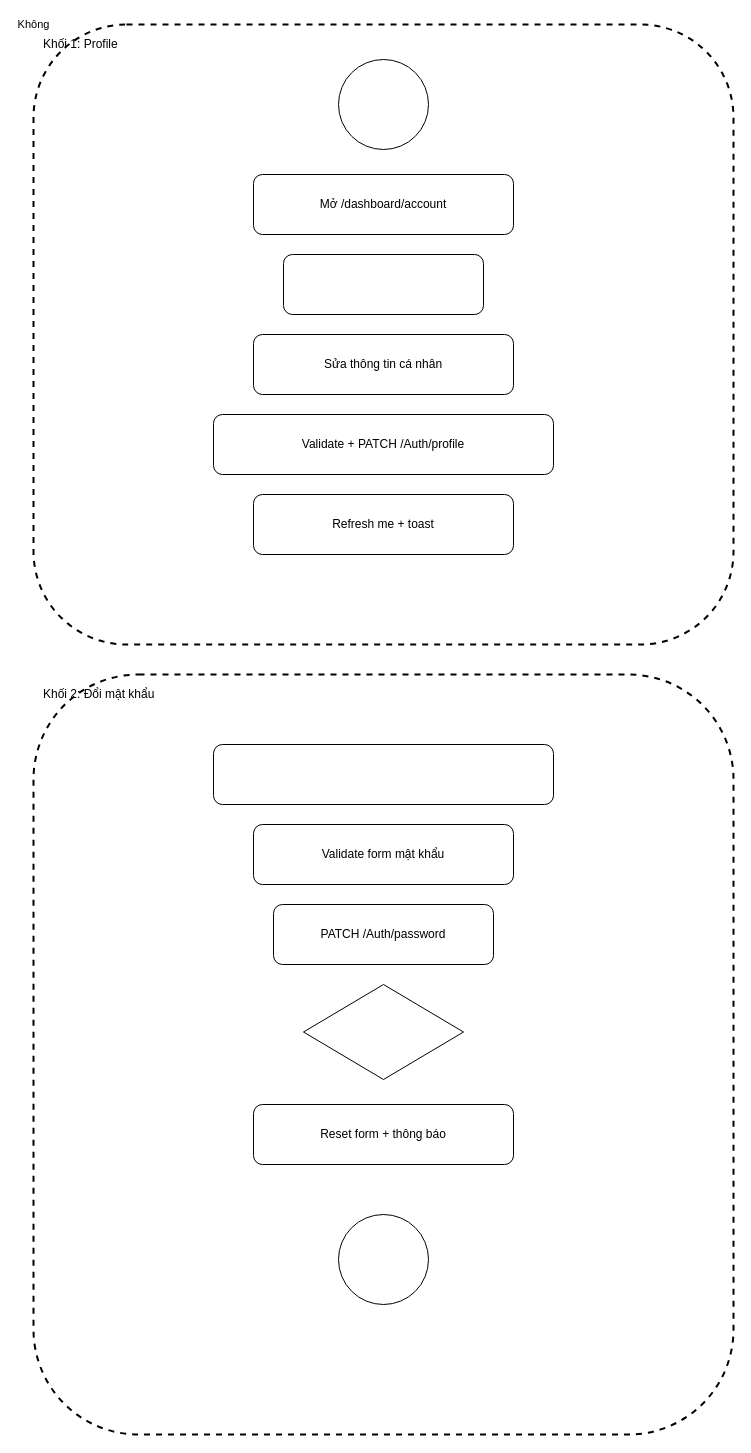
The diagram is 751 pixels wide and 1453 high, and some of its shapes have lost their labels. Each missing label, with the centre of its shape:
"Bắt đầu" goes at point (383, 104).
"Kết thúc" goes at point (383, 1259).
"Nhập mật khẩu cũ/mới/xác nhận" goes at point (383, 774).
"Thành công?" goes at point (383, 1032).
"Tải profile user" goes at point (383, 284).
